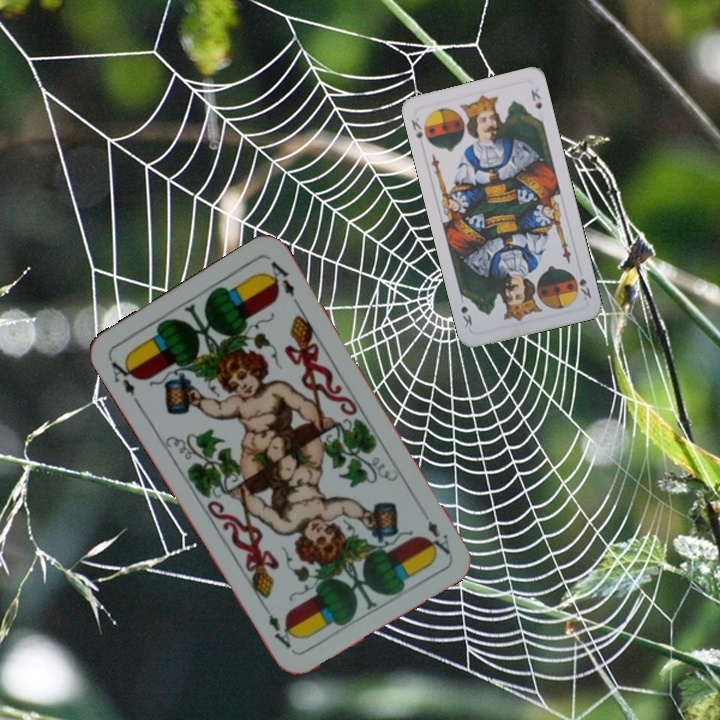EA: (105, 355, 142, 408), (423, 516, 453, 558)
SK: (575, 274, 594, 301), (407, 114, 425, 142)
